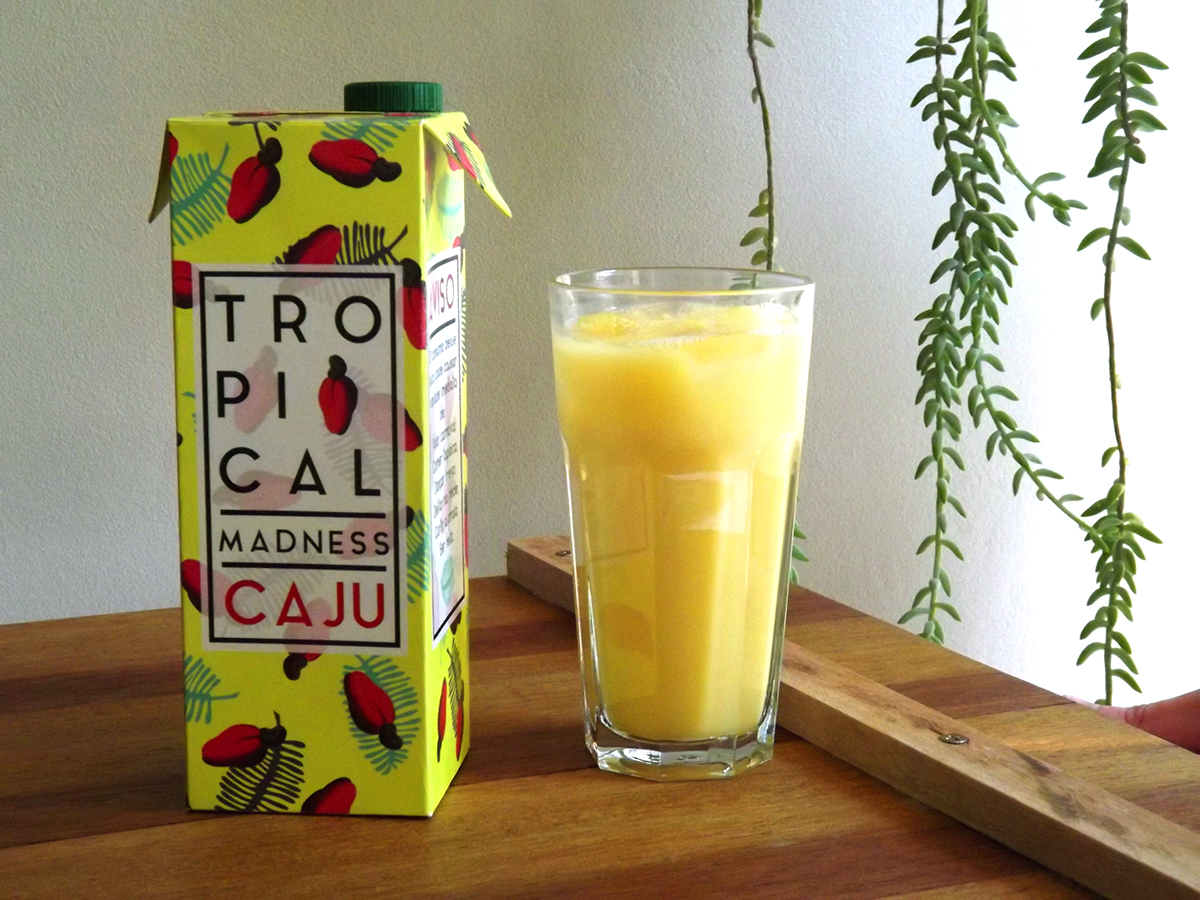Juice_Box: (166, 113, 478, 814)
